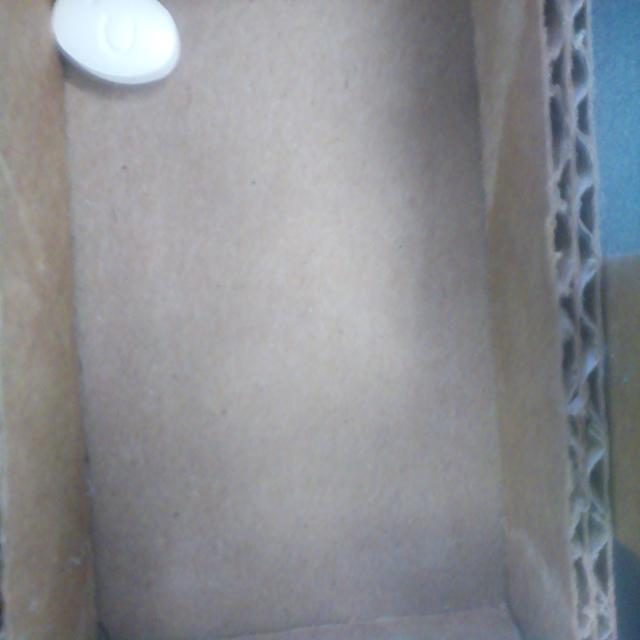pill: (52, 0, 180, 86)
